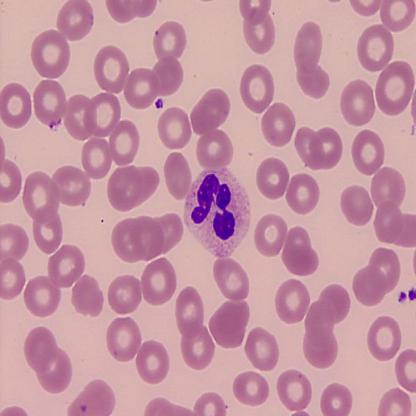Segmented neutrophil: (182, 166, 252, 260)
